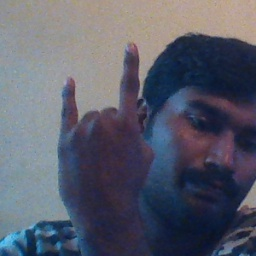V: (56, 38, 160, 206)
